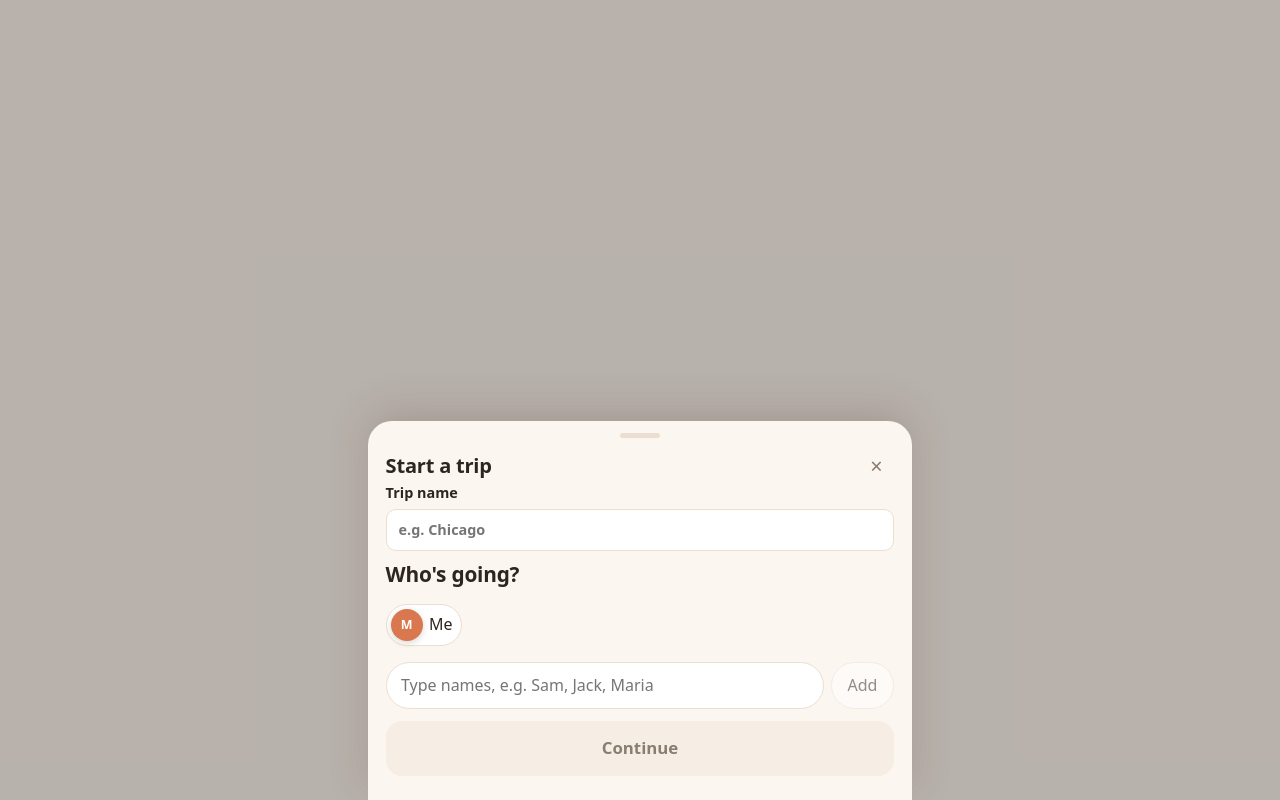
Test case: StartTrip › asks for a name first
Type "Minh" into the field named "add names" at x=605, y=686, box [386,662,824,709]
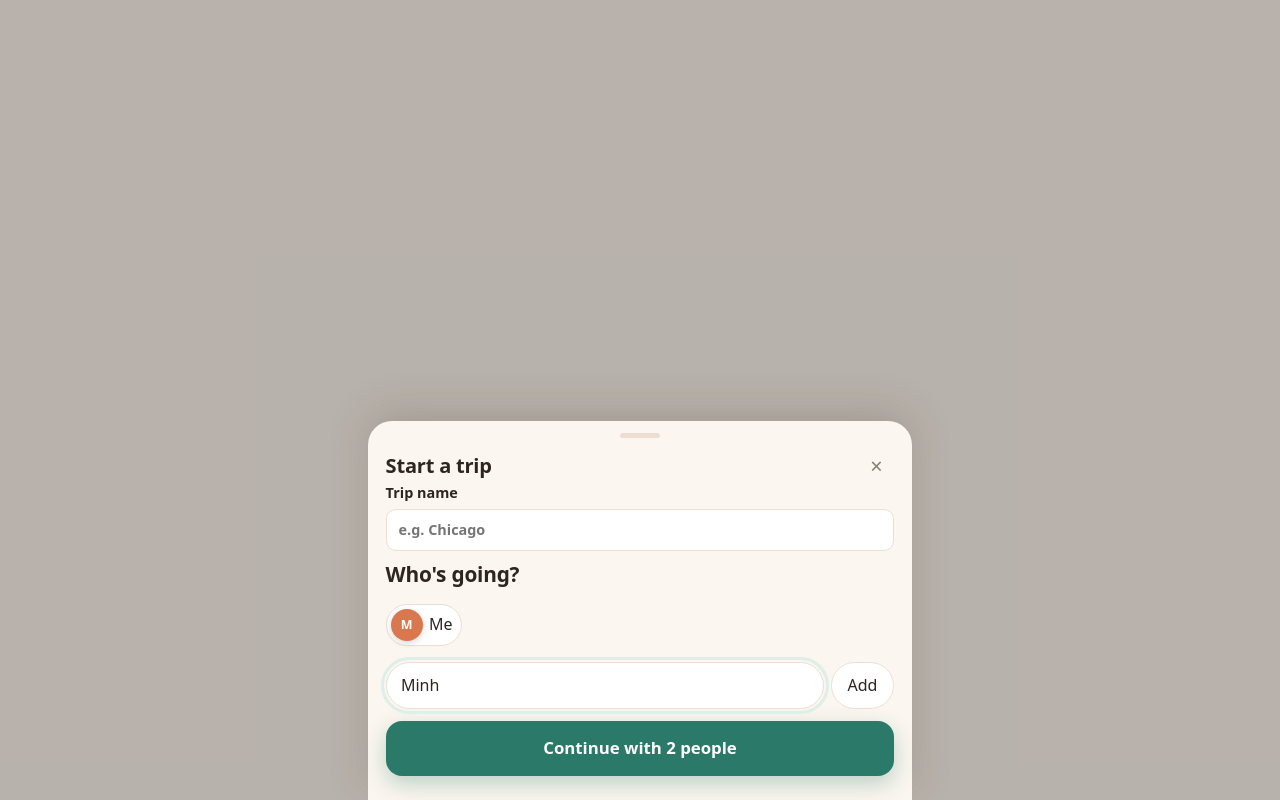
Click the button "Continue with 2 people" at x=640, y=749, box [386,721,894,776]
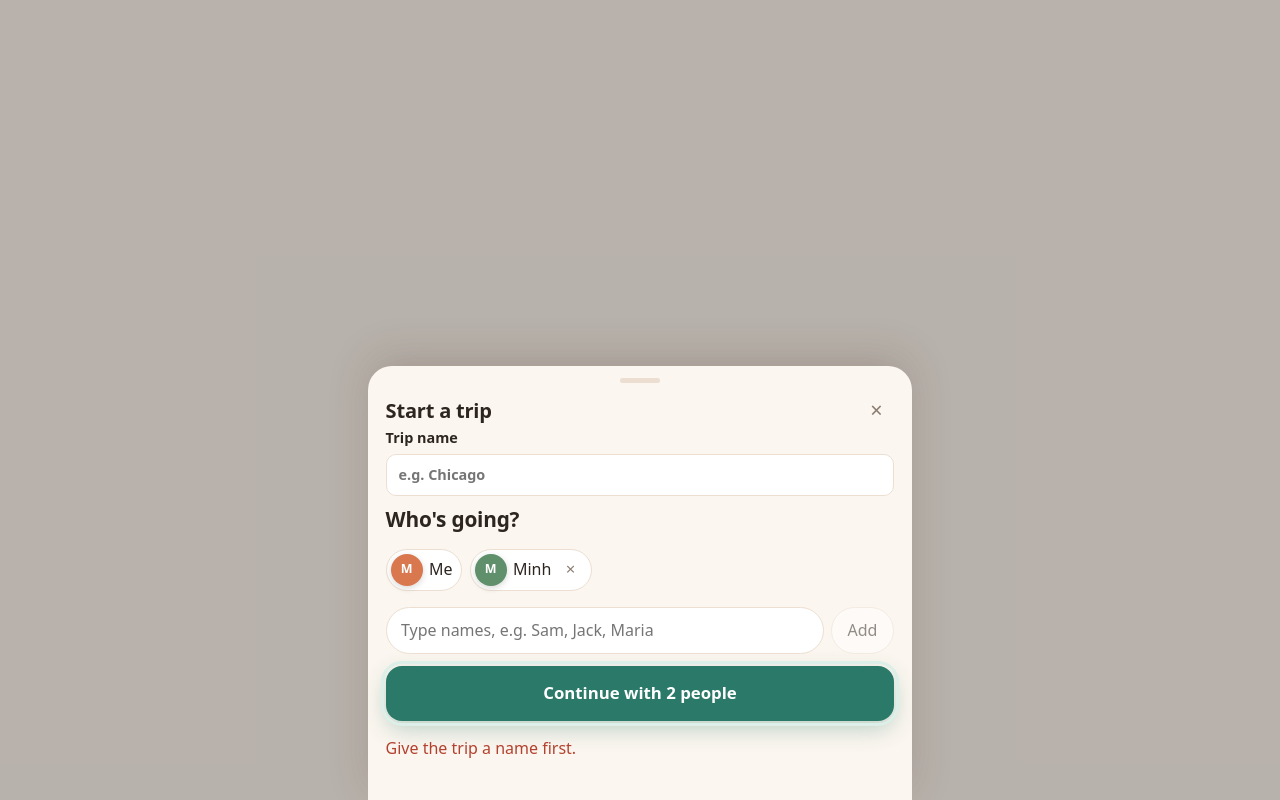
Result: the message shows "name" at [386,737,576,759]
